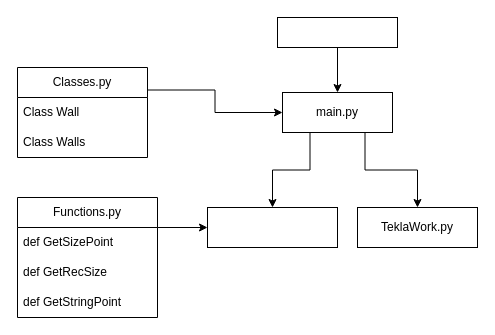
Some shapes in this 495 by 335 pixel diagram are drawn without their labels. Here are the shapes that lost their labels. From the top down, the centre of each, then its label:
[337,32]: DATA_.xlsm
[272,227]: AutocadWork.py
